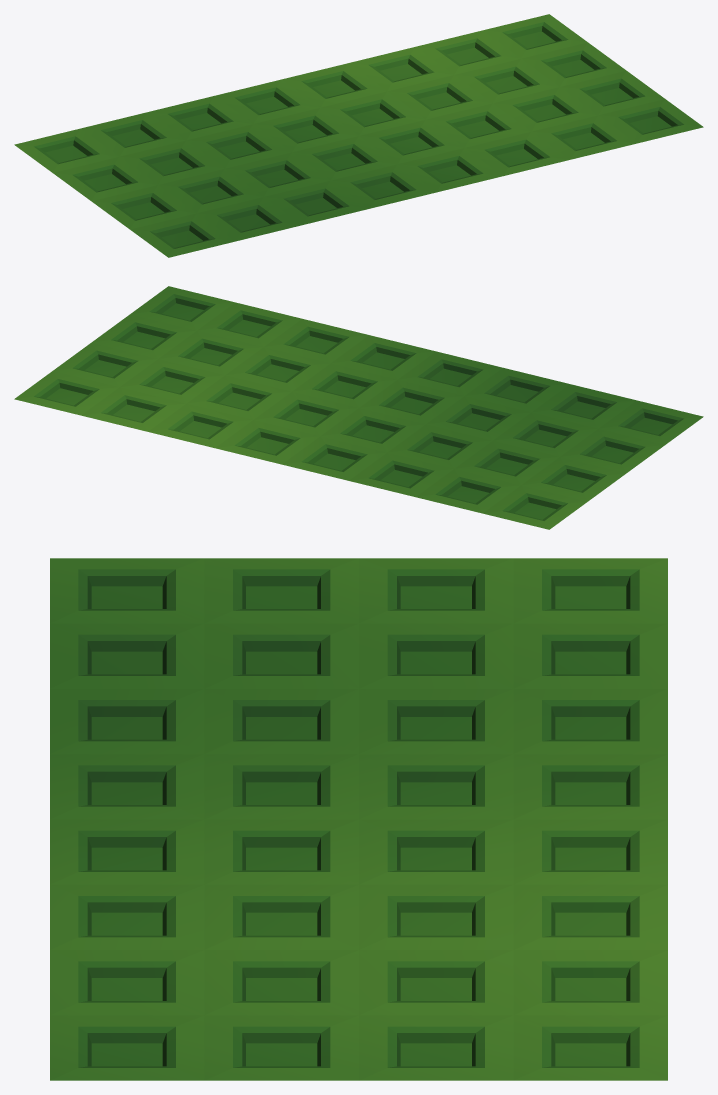
The model's file is GroundGreenEdge.glb.
The picture shows the model from 3 angles, top to bottom: view 1: azimuth 30°, elevation 25°; view 2: azimuth 150°, elevation 25°; view 3: azimuth 270°, elevation 25°; orthographic projection. The views are drawn at different scales.
Parts seen in each view (by area): view 1: GroundGreenEdge; view 2: GroundGreenEdge; view 3: GroundGreenEdge.
Part boxes in pixels (left/top/right/bottom): GroundGreenEdge: left=14, top=14, right=703, bottom=257; GroundGreenEdge: left=14, top=286, right=703, bottom=529; GroundGreenEdge: left=50, top=558, right=667, bottom=1080.
Bounding box in the file's own units: 16 × 0.16 × 8.
Materials: 1 (1 with a texture image).
